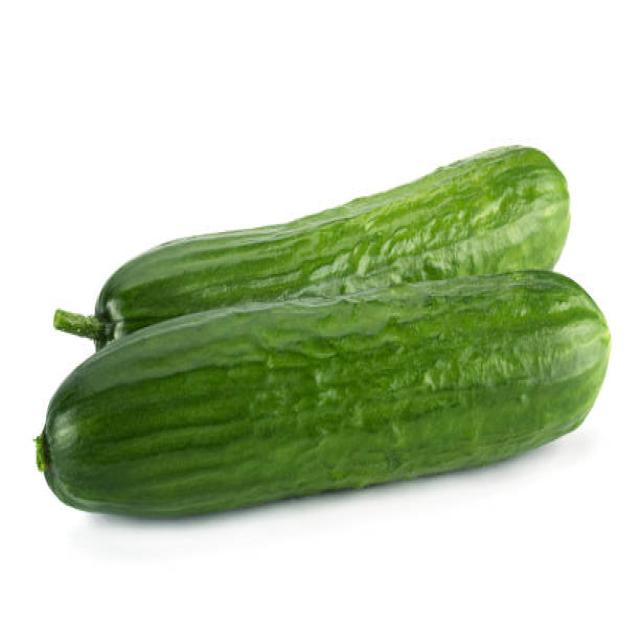cucumber: (38, 268, 612, 520), (94, 139, 573, 347)
